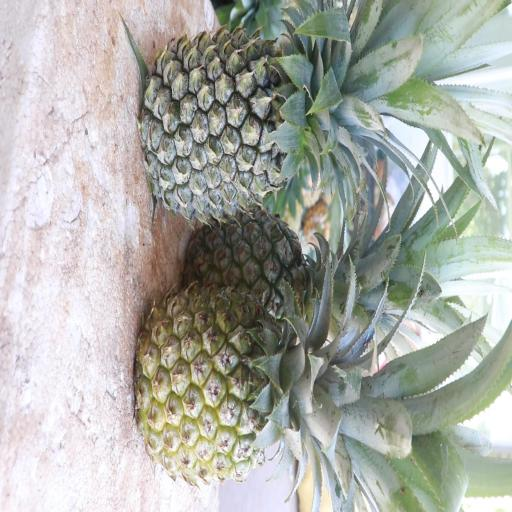------------------------------: (132, 282, 369, 496), (181, 195, 380, 355)
